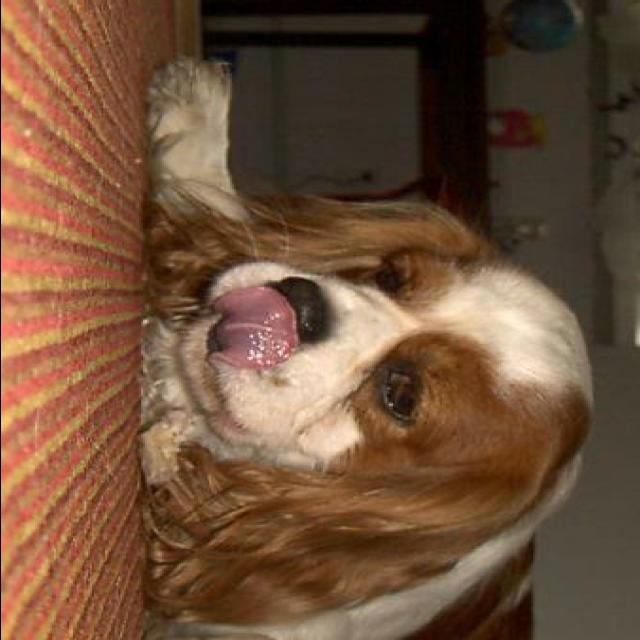blenheim_spaniel: (134, 54, 596, 640)
